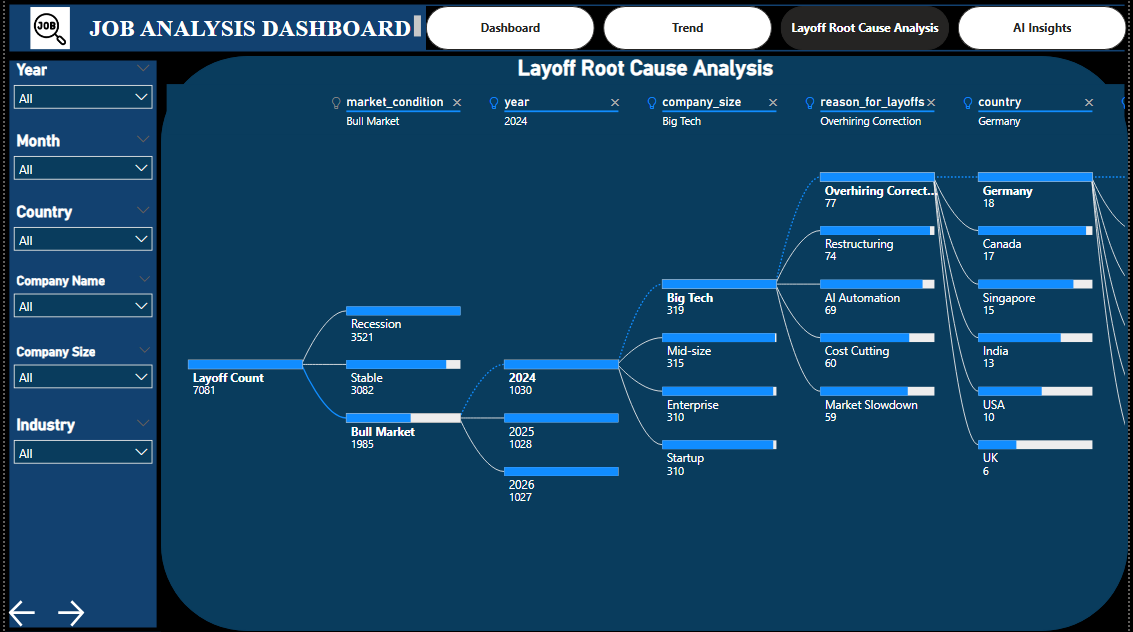

The dashboard page shown, as its layout file describes it:
{"tool":"powerbi","page":{"name":"Layoff Root Cause Analysis","canvas":[1280,720],"ordinal":2},"visuals":[{"type":"shape","box":[177.7,63.8,1101.6,655.1],"z":0},{"type":"group","id":"g1","title":"Group 5","box":[0,0,1280.5,64.2],"z":1000},{"type":"shape","box":[0,0,1280.5,63.8],"z":1000,"group":"g1"},{"type":"textbox","box":[88.6,12.8,390.3,37.2],"z":2000,"group":"g1"},{"type":"group","id":"g2","title":"Group 6","box":[0,63.8,177.7,656.2],"z":2000},{"type":"image","box":[24.4,0,55.2,64.2],"z":3000,"group":"g1"},{"type":"decompositionTreeVisual","title":"Layoff Root Cause Analysis","fields":{"Analyze":["Count(Job_Analysis.layoffs_count)"],"ExplainBy":["Job_Analysis.market_condition","Job_Analysis.year","Job_Analysis.company_size","Job_Analysis.reason_for_layoffs","Job_Analysis.country","Job_Analysis.industry","Job_Analysis.top_hiring_role","Job_Analysis.company_name","Job_Analysis.month"]},"box":[178.5,64.2,1101.5,654.8],"z":3000},{"type":"shape","box":[0,63.8,177.7,656.2],"z":4000,"group":"g2"},{"type":"actionButton","box":[0,679.2,55.2,39.8],"z":4000},{"type":"actionButton","box":[55.2,679.2,47.5,39.8],"z":5000},{"type":"pageNavigator","box":[480.2,6.4,799.8,50.1],"z":5001},{"type":"slicer","fields":{"Values":["Job_Analysis.year"]},"box":[0,63.8,177.7,80.9],"z":12000,"group":"g2"},{"type":"slicer","fields":{"Values":["Job_Analysis.month"]},"box":[0,144.7,177.7,80.9],"z":13000,"group":"g2"},{"type":"slicer","fields":{"Values":["Job_Analysis.country"]},"box":[0,225.6,177.7,80.9],"z":14000,"group":"g2"},{"type":"slicer","fields":{"Values":["Job_Analysis.company_name"]},"box":[0,306.5,177.7,80.9],"z":15000,"group":"g2"},{"type":"slicer","fields":{"Values":["Job_Analysis.company_size"]},"box":[0,387.3,177.7,80.9],"z":16000,"group":"g2"},{"type":"slicer","fields":{"Values":["Job_Analysis.industry"]},"box":[0,468.2,177.7,80.9],"z":17000,"group":"g2"}]}

Visuals, with their boxes on the page's 1280x720 design canvas (x1, y1, x2, y2). These are canvas units, not pixel positions in the 1133x632 screenshot, which may show the page scaled, cropped or inside an application window:
shape: left=178, top=64, right=1279, bottom=719
"Group 5" group: left=0, top=0, right=1280, bottom=64
shape: left=0, top=0, right=1280, bottom=64
textbox: left=89, top=13, right=479, bottom=50
"Group 6" group: left=0, top=64, right=178, bottom=720
image: left=24, top=0, right=80, bottom=64
"Layoff Root Cause Analysis" decompositionTreeVisual: left=178, top=64, right=1280, bottom=719
shape: left=0, top=64, right=178, bottom=720
actionButton: left=0, top=679, right=55, bottom=719
actionButton: left=55, top=679, right=103, bottom=719
pageNavigator: left=480, top=6, right=1280, bottom=56
slicer - Job_Analysis.year: left=0, top=64, right=178, bottom=145
slicer - Job_Analysis.month: left=0, top=145, right=178, bottom=226
slicer - Job_Analysis.country: left=0, top=226, right=178, bottom=306
slicer - Job_Analysis.company_name: left=0, top=306, right=178, bottom=387
slicer - Job_Analysis.company_size: left=0, top=387, right=178, bottom=468
slicer - Job_Analysis.industry: left=0, top=468, right=178, bottom=549
